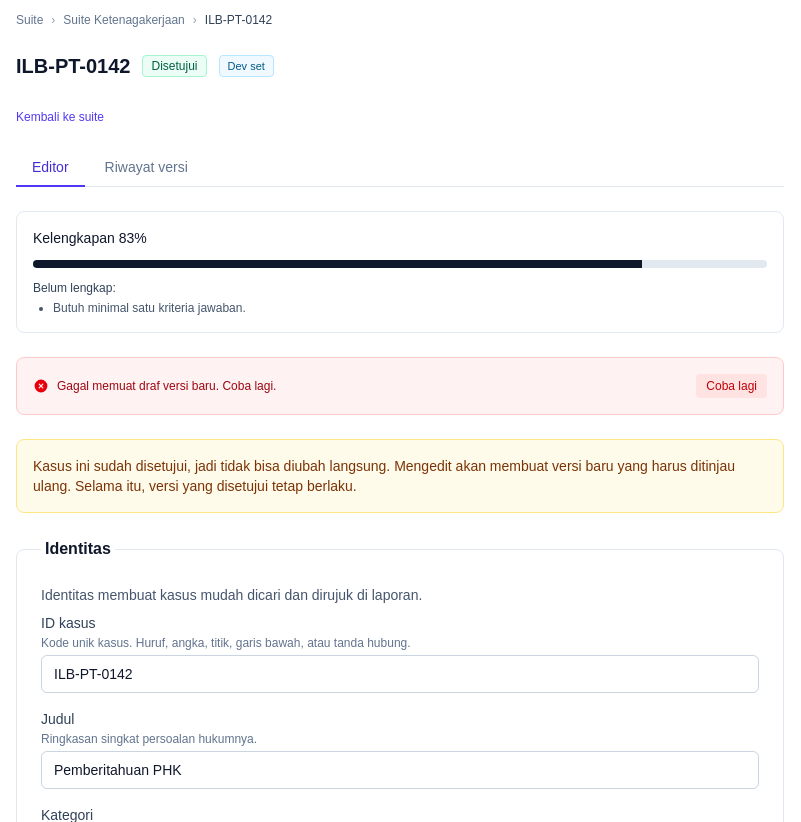
Test: EditCasePage reopening the draft (SCRUM-138) › shows why the draft could not be loaded, hides the start button, and retries
The image size is (801, 822).
Expected: the message shows "Gagal memuat draf versi baru. Coba lagi.", [57,379,276,393]
Click the button "Coba lagi": (732, 386) [696,374,767,398]
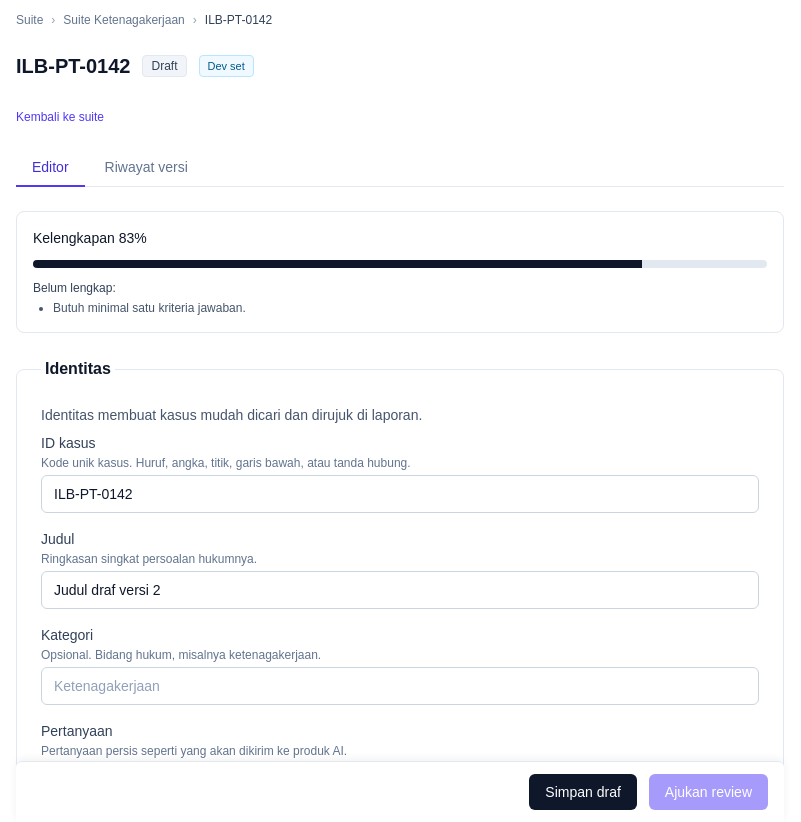
Now the field showing "Judul draf versi 2" is enabled, box [41,571,759,609]
